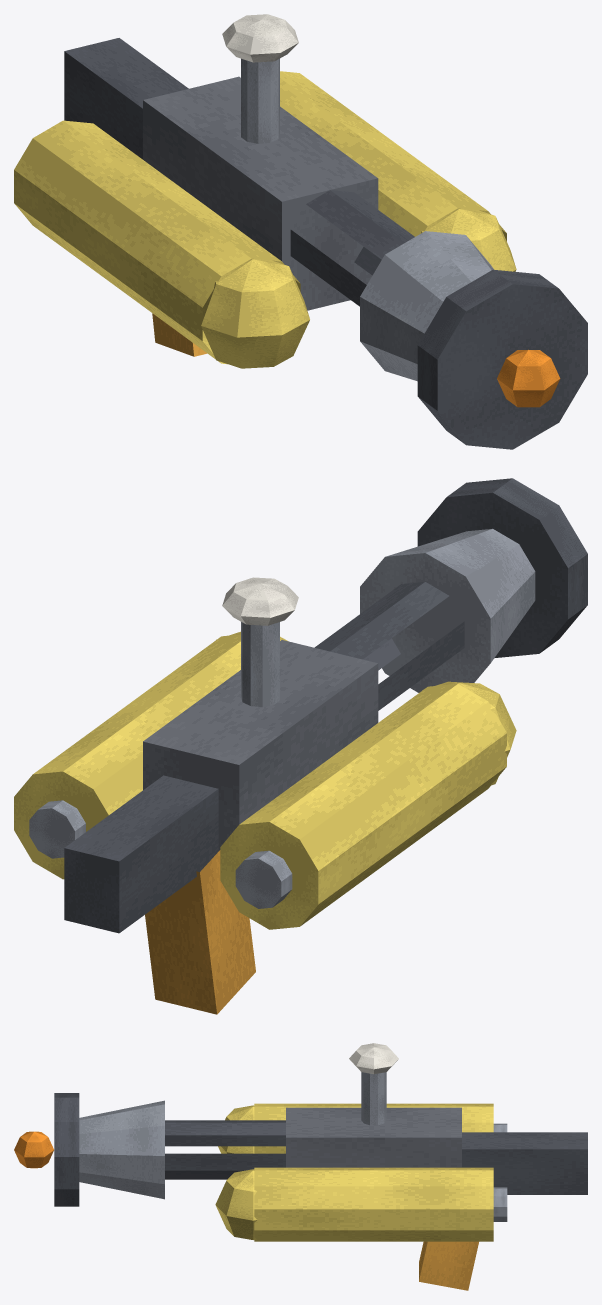
The model's file is weapon_flamer.glb.
The picture shows the model from 3 angles, top to bottom: view 1: azimuth 30°, elevation 25°; view 2: azimuth 150°, elevation 25°; view 3: azimuth 270°, elevation 25°; orthographic projection. The views are drawn at different scales.
Visible parts, largest first — view 1: weapon_flamer; view 2: weapon_flamer; view 3: weapon_flamer.
Part boxes in pixels (box(x1,y1,x2,y2)): weapon_flamer: box(14, 14, 587, 449); weapon_flamer: box(14, 478, 587, 1014); weapon_flamer: box(14, 1043, 587, 1290).
Size of the model in its own units: 0.9 by 1.03 by 2.28.
1 material, 1 textured.
